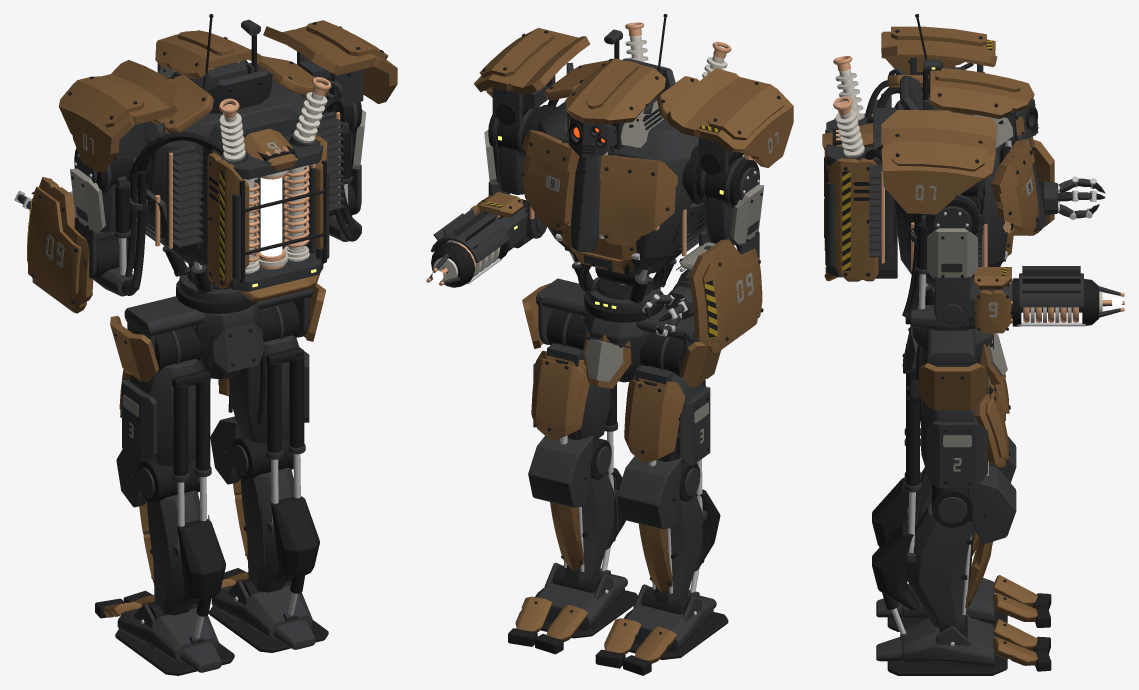
Rendered from teslabot.glb.
The picture shows the model from 3 angles, left to right: view 1: azimuth 30°, elevation 25°; view 2: azimuth 150°, elevation 25°; view 3: azimuth 270°, elevation 25°; orthographic projection. The views are drawn at different scales.
Parts seen in each view (by area): view 1: armor_arm_L_1, leg_L_shin_frame, leg_R_shin_frame, core_mount, armor_arm_L_3, leg_L_foot, leg_R_foot, torso_heatsinks, pelvis_frame, torso_yoke, armor_arm_R_1, pelvis_guard (+44 smaller); view 2: armor_arm_L_1, armor_arm_L_3, armor_torso_2, chest_frame, armor_head_2, pelvis_frame, armor_arm_R_1, armor_torso_1, armor_leg_L_1, leg_L_foot, armor_leg_R_1, leg_R_foot (+42 smaller); view 3: armor_arm_R_1, leg_R_shin_frame, leg_R_foot, armor_core_1, pelvis_guard, arm_R_arc_barrel, armor_arm_L_1, armor_head_2, armor_leg_R_2, armor_torso_1, armor_leg_R_3, chest_frame (+29 smaller).
Part boxes in pixels (bbox=[...]): armor_arm_L_1: bbox=[58, 60, 182, 172]; leg_L_shin_frame: bbox=[146, 490, 225, 615]; leg_R_shin_frame: bbox=[240, 468, 319, 592]; core_mount: bbox=[200, 109, 326, 291]; armor_arm_L_3: bbox=[27, 177, 93, 313]; leg_L_foot: bbox=[115, 602, 234, 675]; leg_R_foot: bbox=[209, 579, 328, 652]; torso_heatsinks: bbox=[167, 111, 344, 248]; pelvis_frame: bbox=[124, 287, 313, 379]; torso_yoke: bbox=[151, 56, 329, 133]; armor_arm_R_1: bbox=[263, 20, 397, 103]; pelvis_guard: bbox=[110, 283, 325, 381]; armor_arm_L_1: bbox=[667, 68, 793, 167]; armor_arm_L_3: bbox=[688, 239, 763, 353]; armor_torso_2: bbox=[599, 154, 677, 245]; chest_frame: bbox=[538, 102, 698, 275]; armor_head_2: bbox=[565, 58, 665, 124]; pelvis_frame: bbox=[536, 278, 700, 382]; armor_arm_R_1: bbox=[473, 28, 590, 97]; armor_torso_1: bbox=[522, 129, 579, 230]; armor_leg_L_1: bbox=[624, 373, 685, 463]; leg_L_foot: bbox=[623, 584, 728, 659]; armor_leg_R_1: bbox=[531, 350, 589, 440]; leg_R_foot: bbox=[535, 562, 637, 638]; armor_arm_R_1: bbox=[881, 110, 997, 214]; leg_R_shin_frame: bbox=[872, 504, 973, 628]; leg_R_foot: bbox=[876, 613, 1007, 675]; armor_core_1: bbox=[824, 158, 878, 281]; pelvis_guard: bbox=[902, 326, 1007, 410]; arm_R_arc_barrel: bbox=[1012, 266, 1099, 326]; armor_arm_L_1: bbox=[881, 26, 997, 74]; armor_head_2: bbox=[929, 68, 1034, 119]; armor_leg_R_2: bbox=[927, 421, 987, 488]; armor_torso_1: bbox=[991, 139, 1038, 235]; armor_leg_R_3: bbox=[967, 465, 1016, 544]; chest_frame: bbox=[892, 93, 1007, 284].
Size of the model in its own units: 0.9978 by 2.08 by 0.9328.
